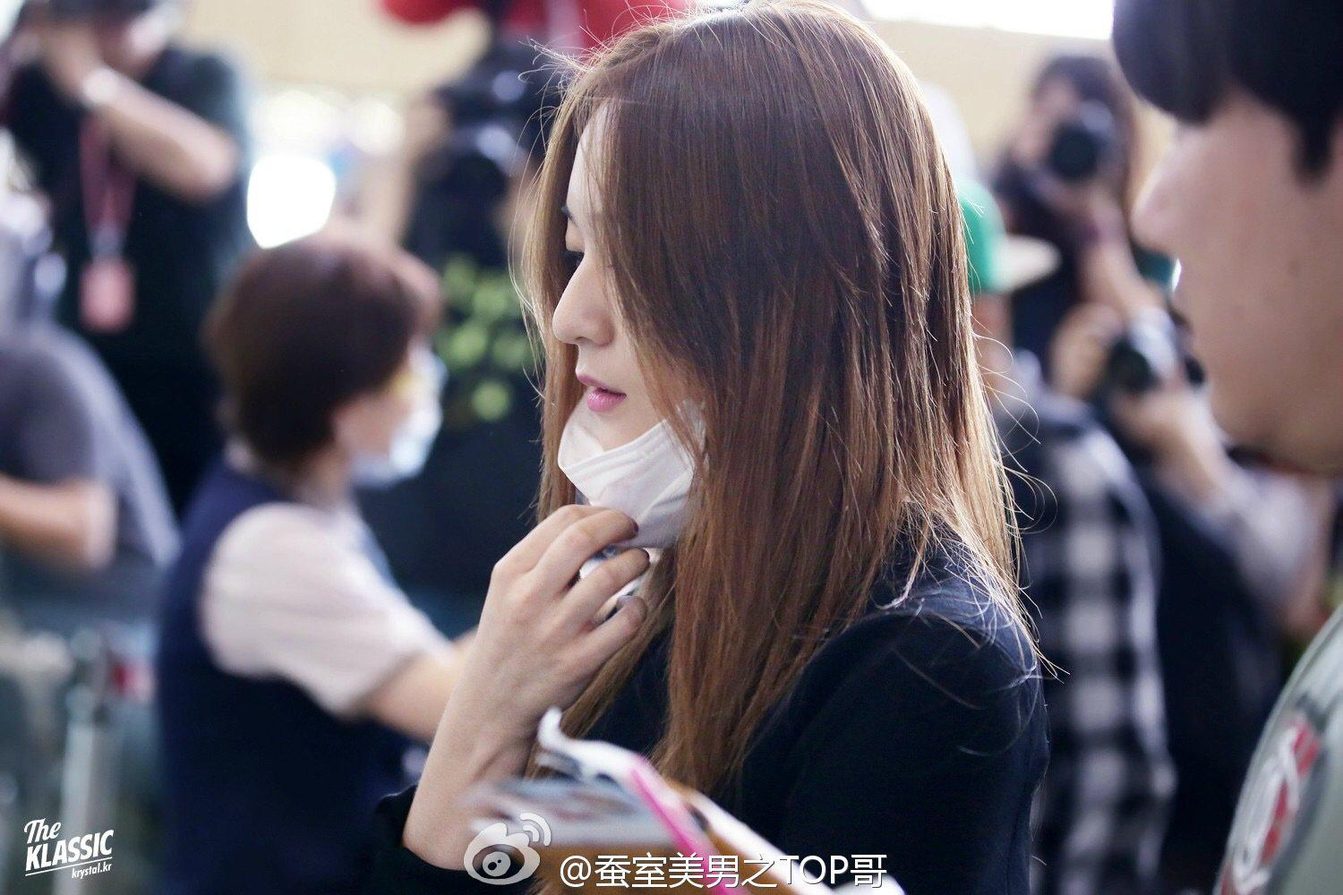NONE: (1124, 71, 1277, 476)
OK: (351, 335, 451, 495)
WRONG: (557, 182, 698, 480)
